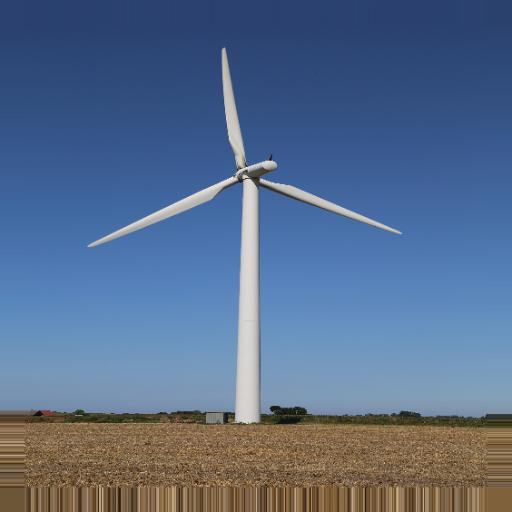wind turbine: (86, 46, 403, 425)
